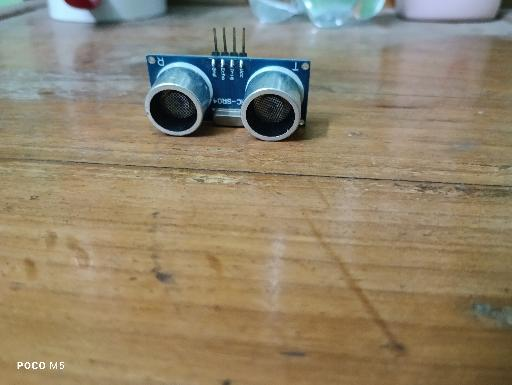sensor: (144, 27, 312, 143)
